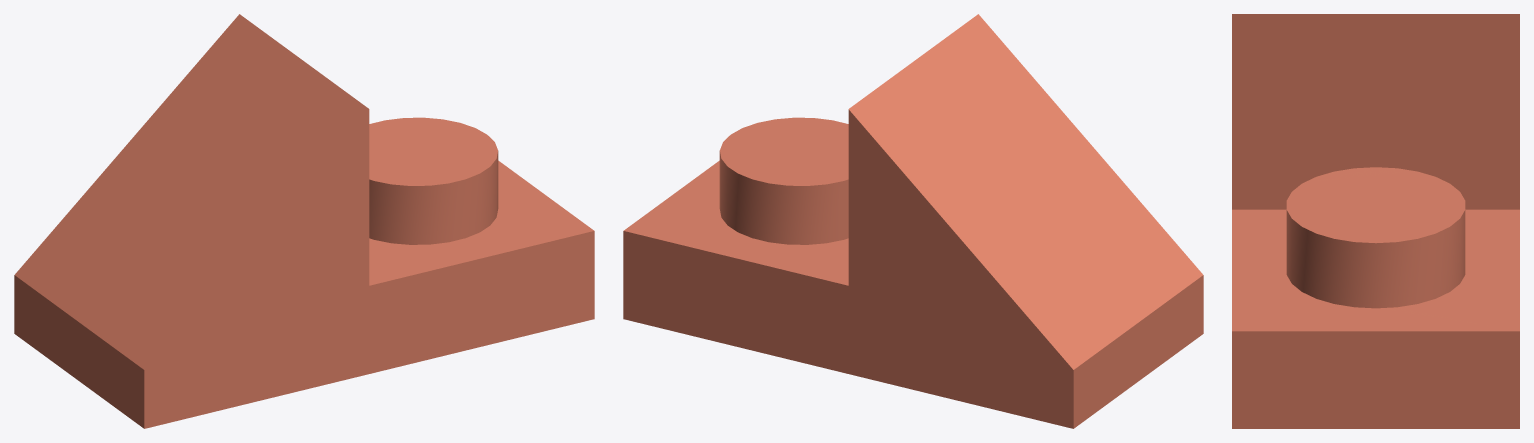
3 views of the same model, side by side, from view 1: azimuth 30°, elevation 25°; view 2: azimuth 150°, elevation 25°; view 3: azimuth 270°, elevation 25° (orthographic). The views are drawn at different scales.
Parts seen in each view (by area): view 1: [pivoted]; view 2: [pivoted]; view 3: [pivoted].
Boxes of the visible parts, <box> form: [pivoted]: <box>14,14,594,428</box>; [pivoted]: <box>623,14,1203,428</box>; [pivoted]: <box>1232,14,1519,428</box>.
Bounding box in the file's own units: 1.6 × 0.9 × 0.8.
